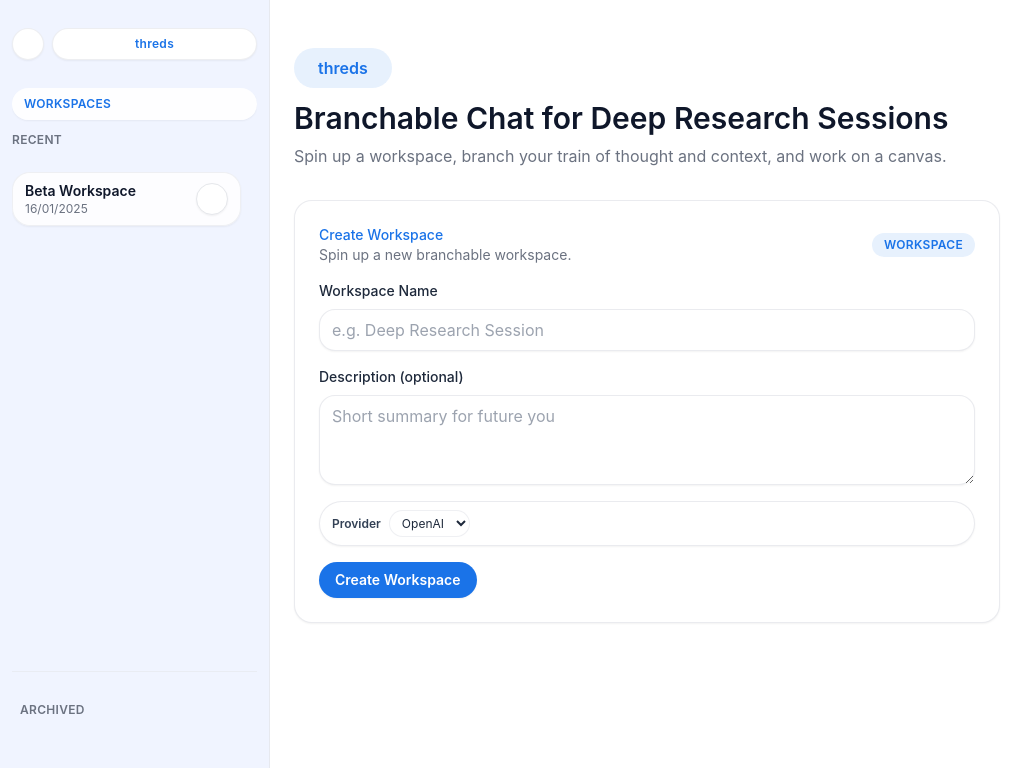
HomePageContent archive behavior › unarchives a project after confirmation and updates localStorage
expect the link "Alpha Workspace" is not shown: met
expect the text "Archived" is shown: met, box [20,702,85,718]
Click the button "Archived": (134, 710) [12,696,257,724]
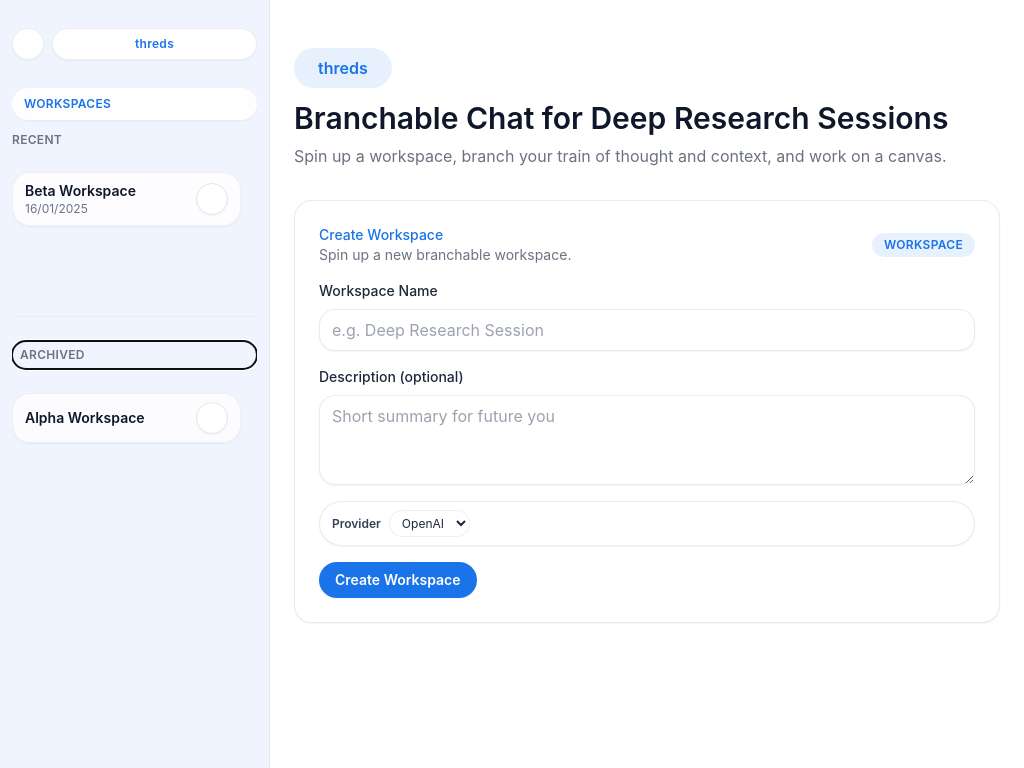
Click the button named "Unarchive workspace": (212, 418) [196,402,228,434]
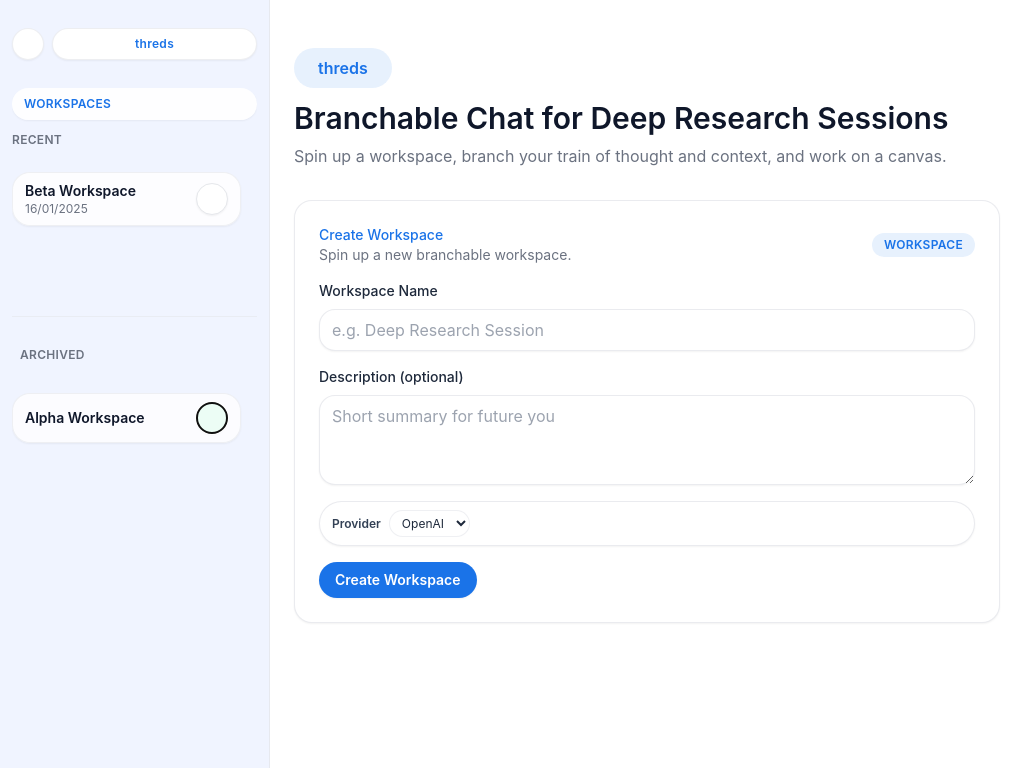
Click the button named "Confirm unarchive": (212, 418) [196,402,228,434]
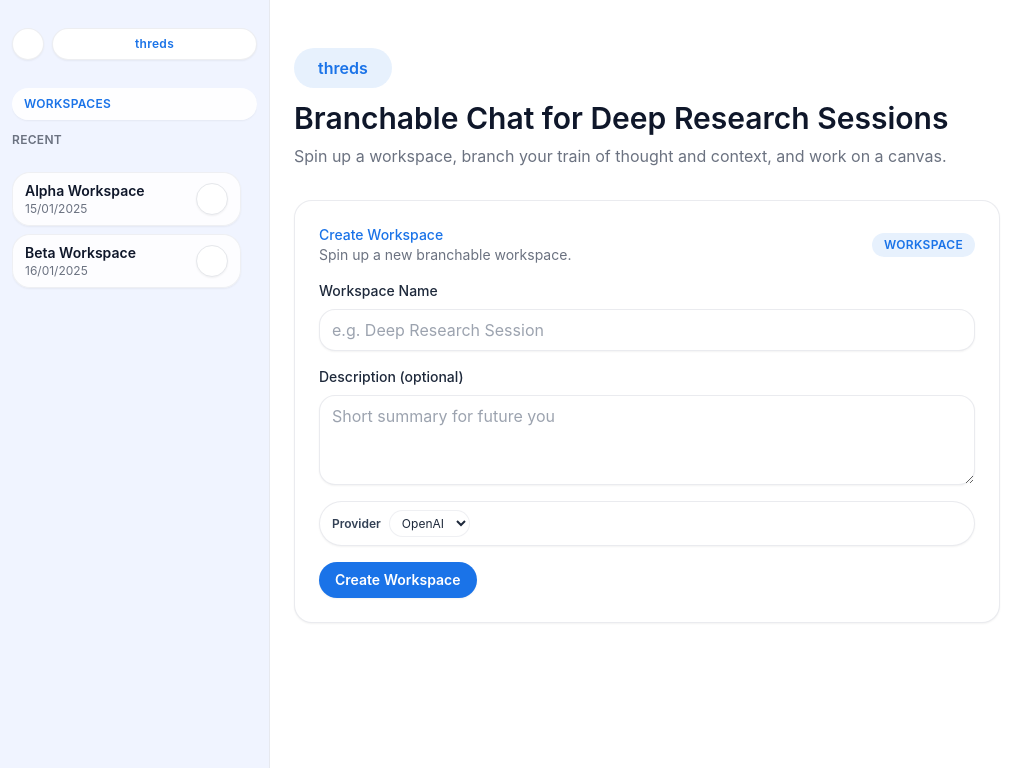
expect the link "Alpha Workspace 15/01/2025" is shown: met, box [25,182,145,216]
